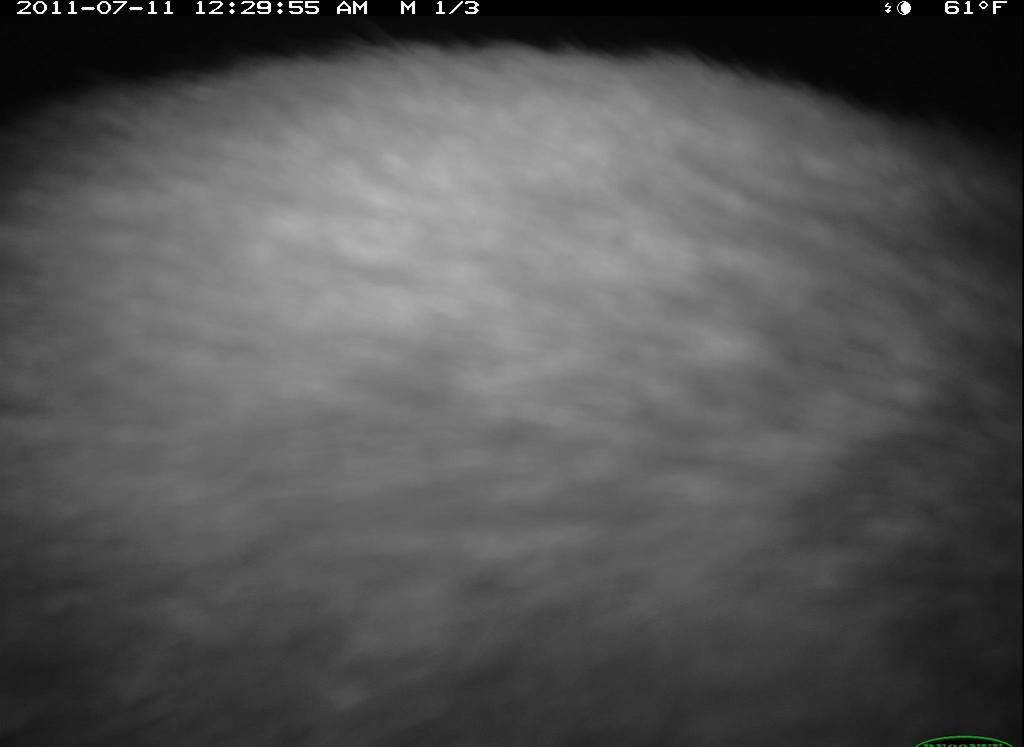raccoon: (8, 39, 1022, 747)
